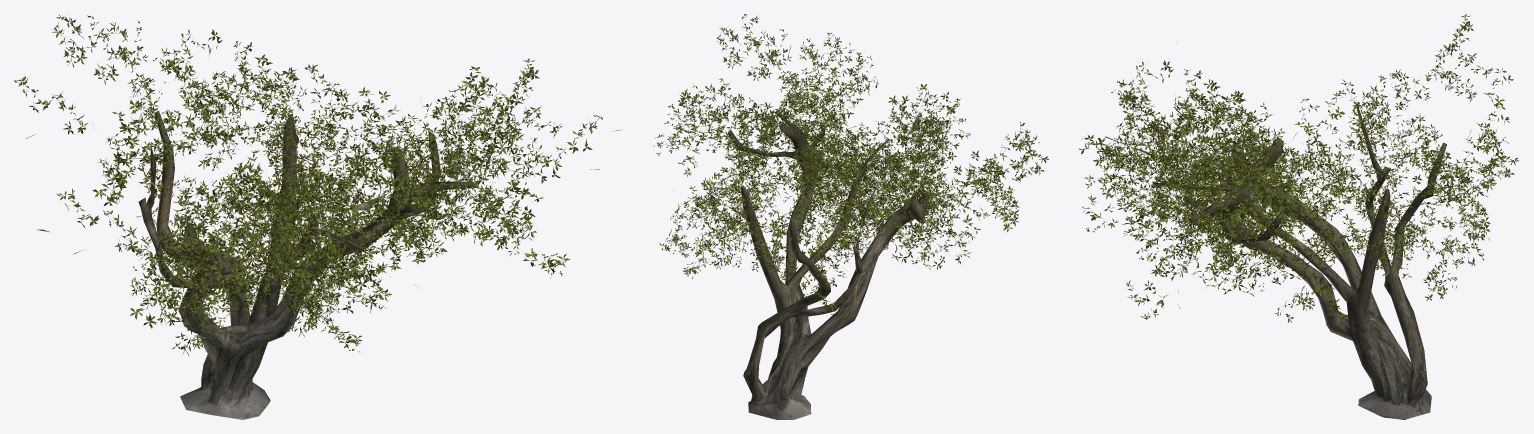
Rendered from island_tree_02.glb.
The picture shows the model from 3 angles, left to right: view 1: azimuth 30°, elevation 25°; view 2: azimuth 150°, elevation 25°; view 3: azimuth 270°, elevation 25°; orthographic projection. The views are drawn at different scales.
Parts seen in each view (by area): view 1: island_tree_02_LOD0; view 2: island_tree_02_LOD0; view 3: island_tree_02_LOD0.
Part boxes in pixels (<box>): island_tree_02_LOD0: <box>14,14,622,419</box>; island_tree_02_LOD0: <box>653,14,1048,419</box>; island_tree_02_LOD0: <box>1079,14,1518,419</box>.
Bounding box in the file's own units: 4.21 × 3.41 × 4.07.
Materials: 3 (3 with a texture image).
